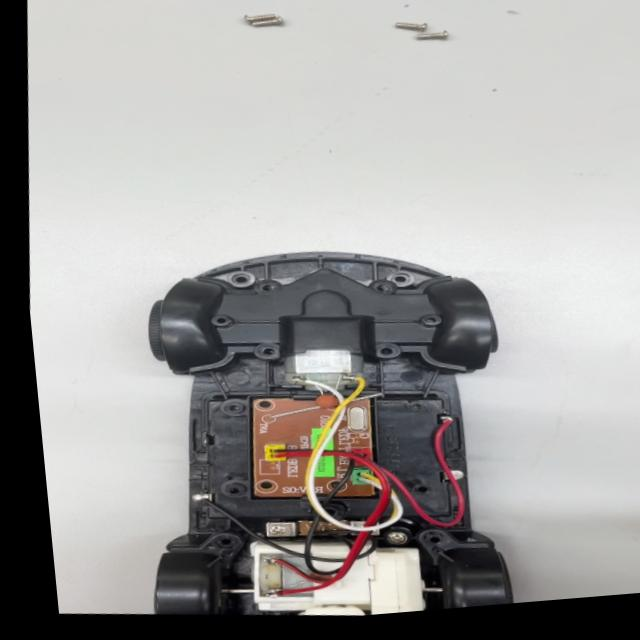Chassis: (138, 228, 507, 631)
motor_cover: (150, 251, 503, 385)
screw: (412, 23, 462, 51), (246, 13, 295, 41), (387, 8, 430, 36), (231, 1, 274, 27)
